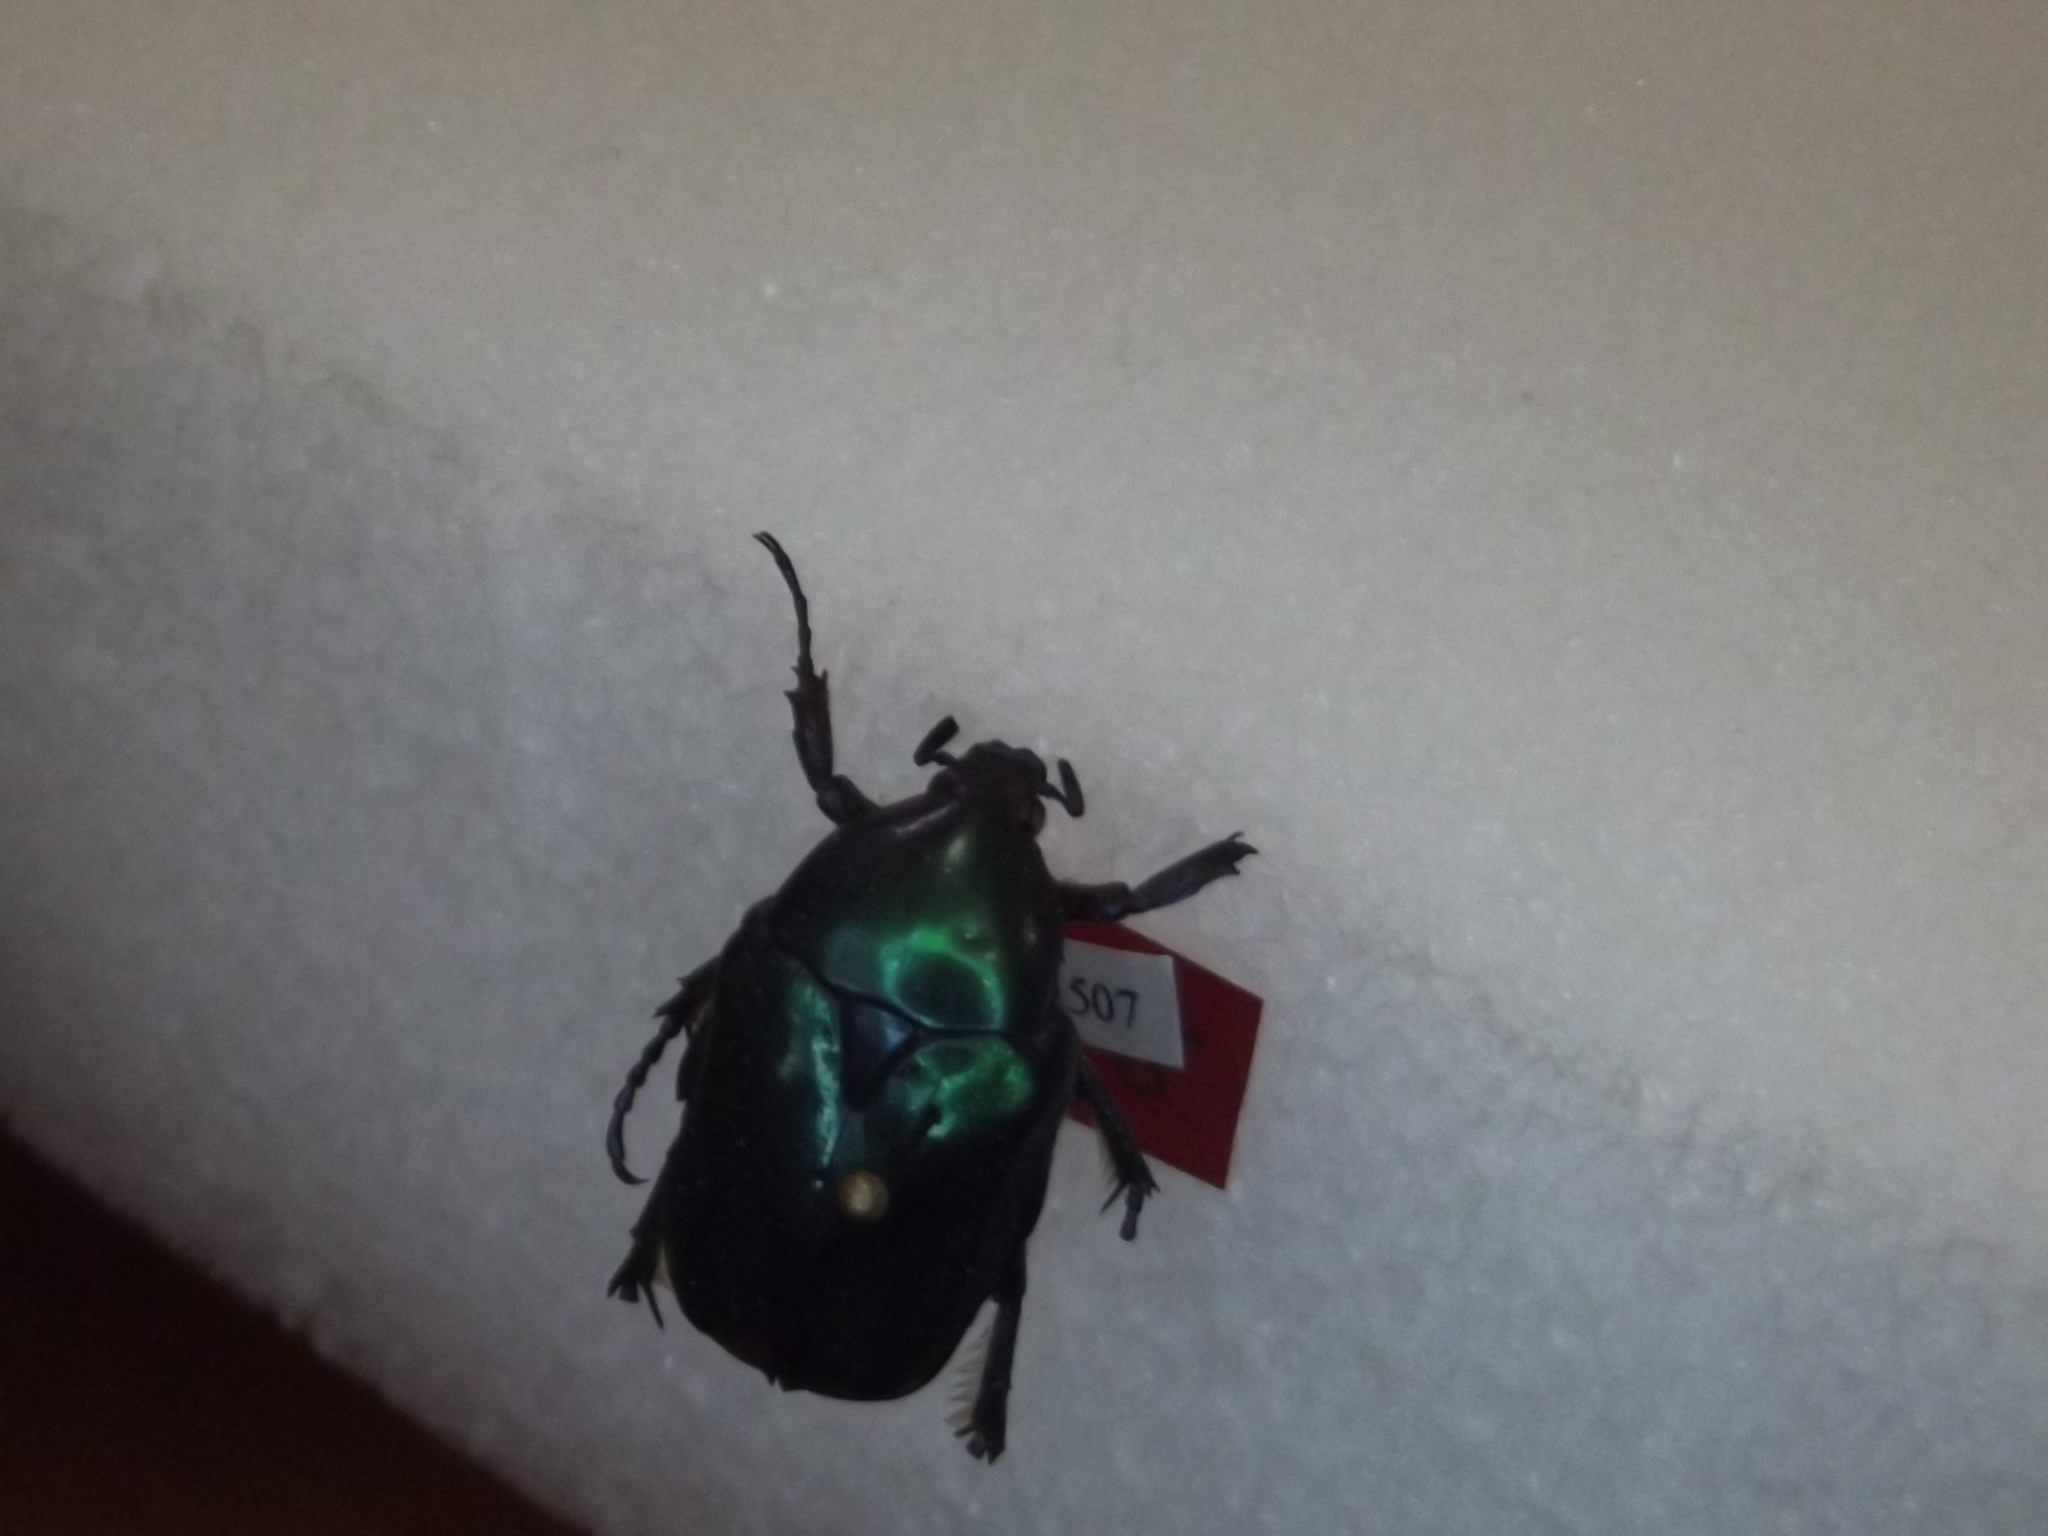Protaetia_besucheti: (574, 479, 1285, 1484)
